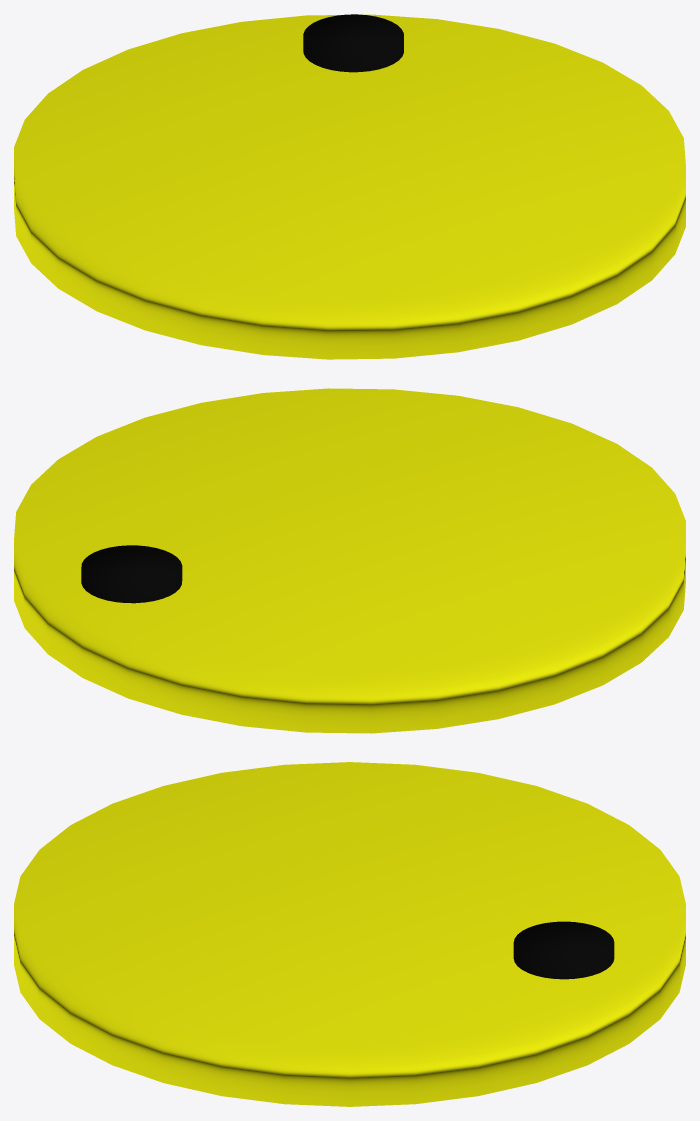
File: SM_Pacman_Closed.fbx
The picture shows the model from 3 angles, top to bottom: view 1: azimuth 30°, elevation 25°; view 2: azimuth 150°, elevation 25°; view 3: azimuth 270°, elevation 25°; orthographic projection.
Visible parts, largest first — view 1: Closed, Eye; view 2: Closed, Eye; view 3: Closed, Eye.
Boxes of the visible parts, left/top/right/bottom form: Closed: left=14, top=14, right=685, bottom=359; Eye: left=303, top=14, right=403, bottom=72; Closed: left=14, top=388, right=685, bottom=733; Eye: left=81, top=545, right=182, bottom=603; Closed: left=14, top=762, right=685, bottom=1106; Eye: left=513, top=921, right=614, bottom=979.
Size of the model in its own units: 200 by 30 by 200.
